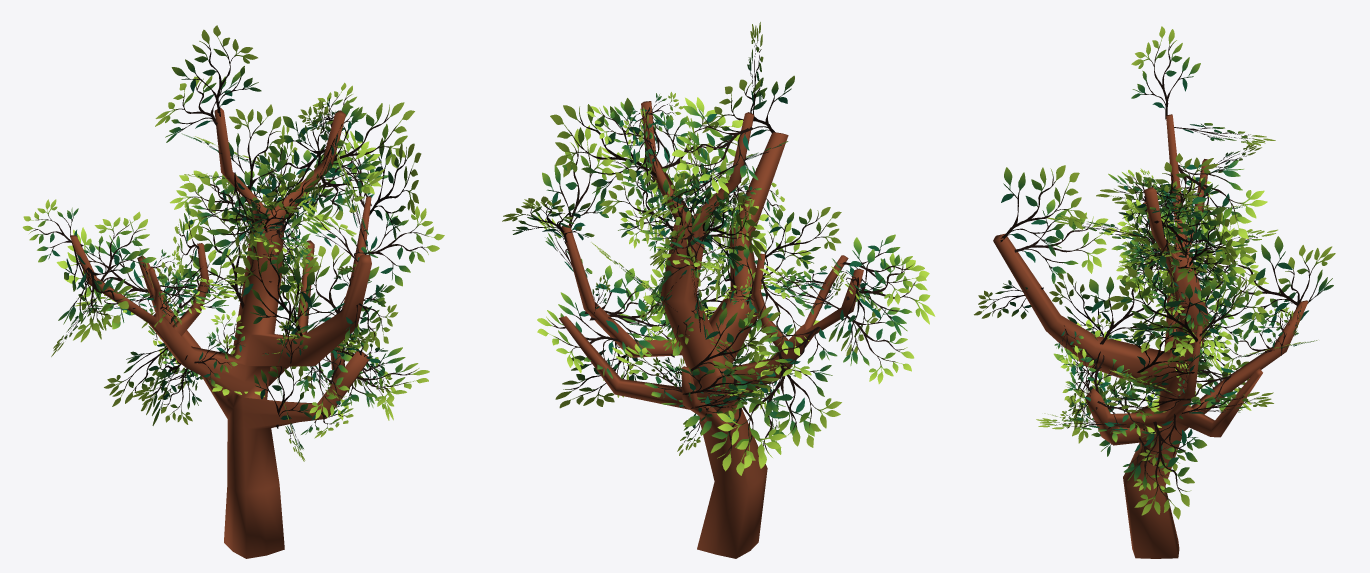
Rendered from arvore3.fbx.
3 renders of one model, left to right at view 1: azimuth 30°, elevation 25°; view 2: azimuth 150°, elevation 25°; view 3: azimuth 270°, elevation 25°, orthographic. The views are drawn at different scales.
Visible parts, largest first — view 1: folha.046; view 2: folha.046; view 3: folha.046.
Boxes of the visible parts, x1,y1,x2,y2 form: folha.046: [22, 25, 444, 558]; folha.046: [502, 22, 935, 558]; folha.046: [974, 26, 1335, 558].
Bounding box in the file's own units: 203 × 266 × 181.
Materials: 2 (1 with a texture image).
